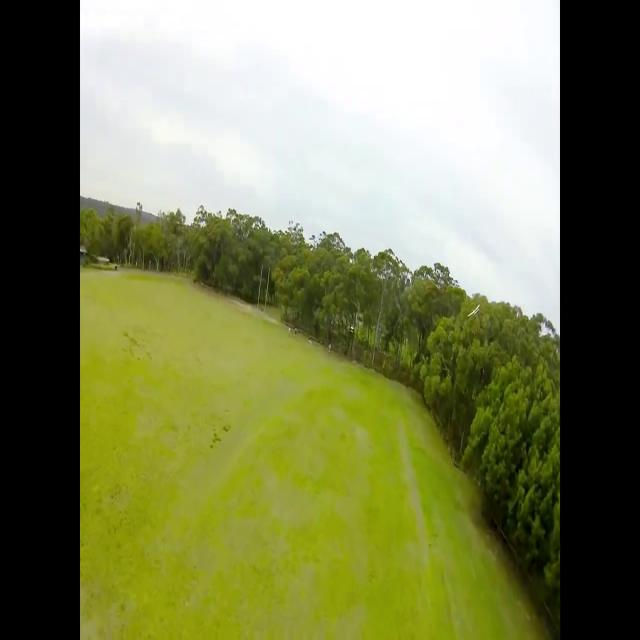iha: (471, 309, 477, 315)
